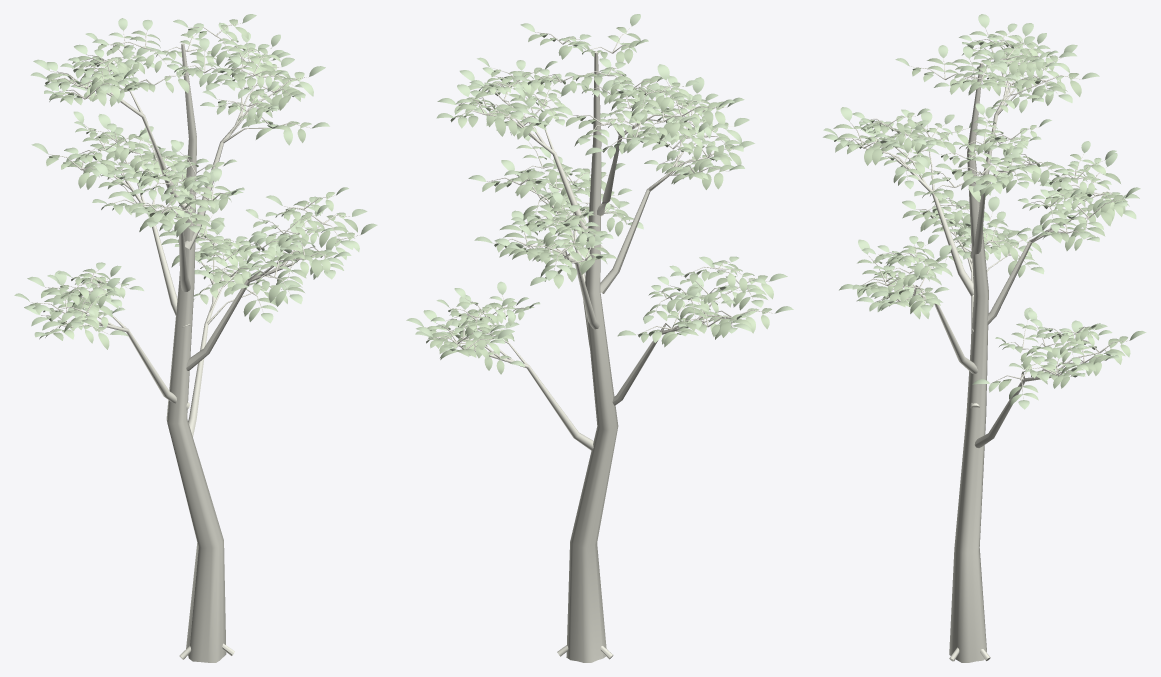
Rendered from SM_WLA_Birch_B.fbx.
3 renders of one model, left to right at view 1: azimuth 30°, elevation 25°; view 2: azimuth 150°, elevation 25°; view 3: azimuth 270°, elevation 25°, orthographic. The views are drawn at different scales.
Visible parts, largest first — view 1: SM_WLA_Birch_B; view 2: SM_WLA_Birch_B; view 3: SM_WLA_Birch_B.
Boxes of the visible parts, x1,y1,x2,y2 form: SM_WLA_Birch_B: (14, 14, 377, 662); SM_WLA_Birch_B: (406, 14, 793, 662); SM_WLA_Birch_B: (823, 14, 1146, 662).
Size of what is drawn, in the model's own units: 3.94 by 4.41 by 8.03.
